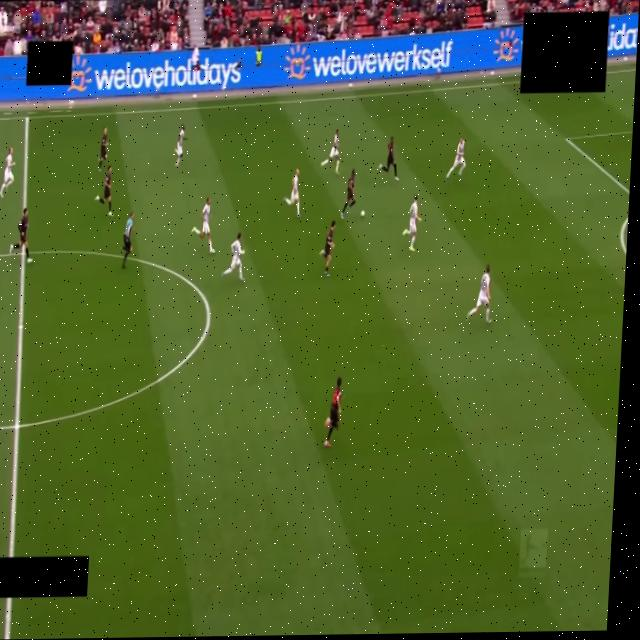ball: (360, 210, 365, 217)
player: (467, 265, 491, 323), (192, 197, 214, 253), (10, 207, 31, 262), (325, 378, 341, 448), (222, 232, 245, 280), (403, 195, 420, 251), (340, 169, 357, 219), (96, 166, 113, 216), (321, 130, 340, 174), (283, 169, 300, 218), (379, 137, 398, 180), (446, 138, 465, 180), (321, 221, 335, 276), (0, 148, 14, 198), (174, 124, 186, 167), (99, 127, 107, 170), (191, 45, 201, 72)
referee: (122, 212, 133, 268)
